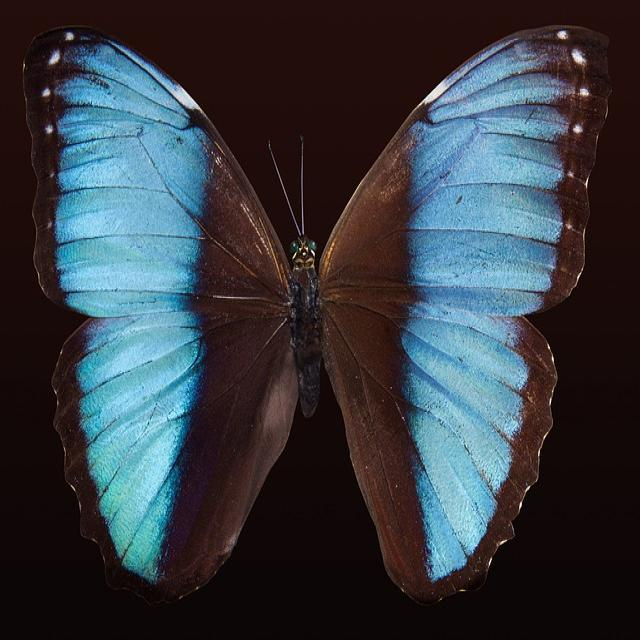butterfly: (24, 27, 610, 601)
